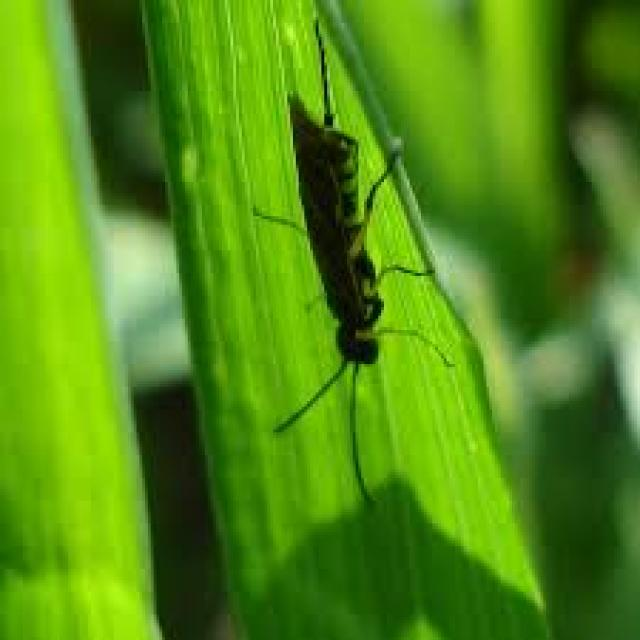Saw Fly: (243, 17, 461, 515)
